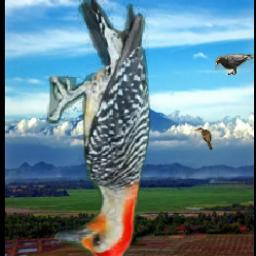Crow: (215, 54, 254, 75)
Cuckoo: (195, 129, 212, 151)
Woodpecker: (48, 1, 154, 256)
